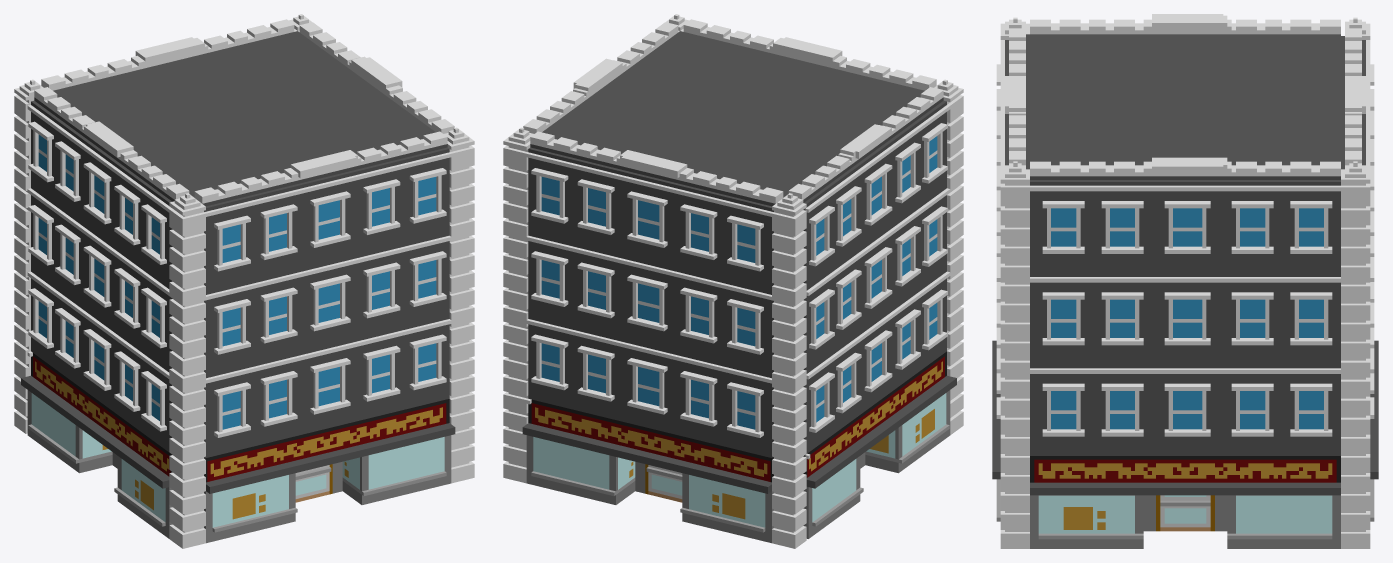
File: obj_store01_grey.obj
The picture shows the model from 3 angles, left to right: view 1: azimuth 30°, elevation 25°; view 2: azimuth 150°, elevation 25°; view 3: azimuth 270°, elevation 25°; orthographic projection. The views are drawn at different scales.
Bounding box in the file's own units: 9.2 × 10 × 9.2.
Materials: 1 (1 with a texture image).
